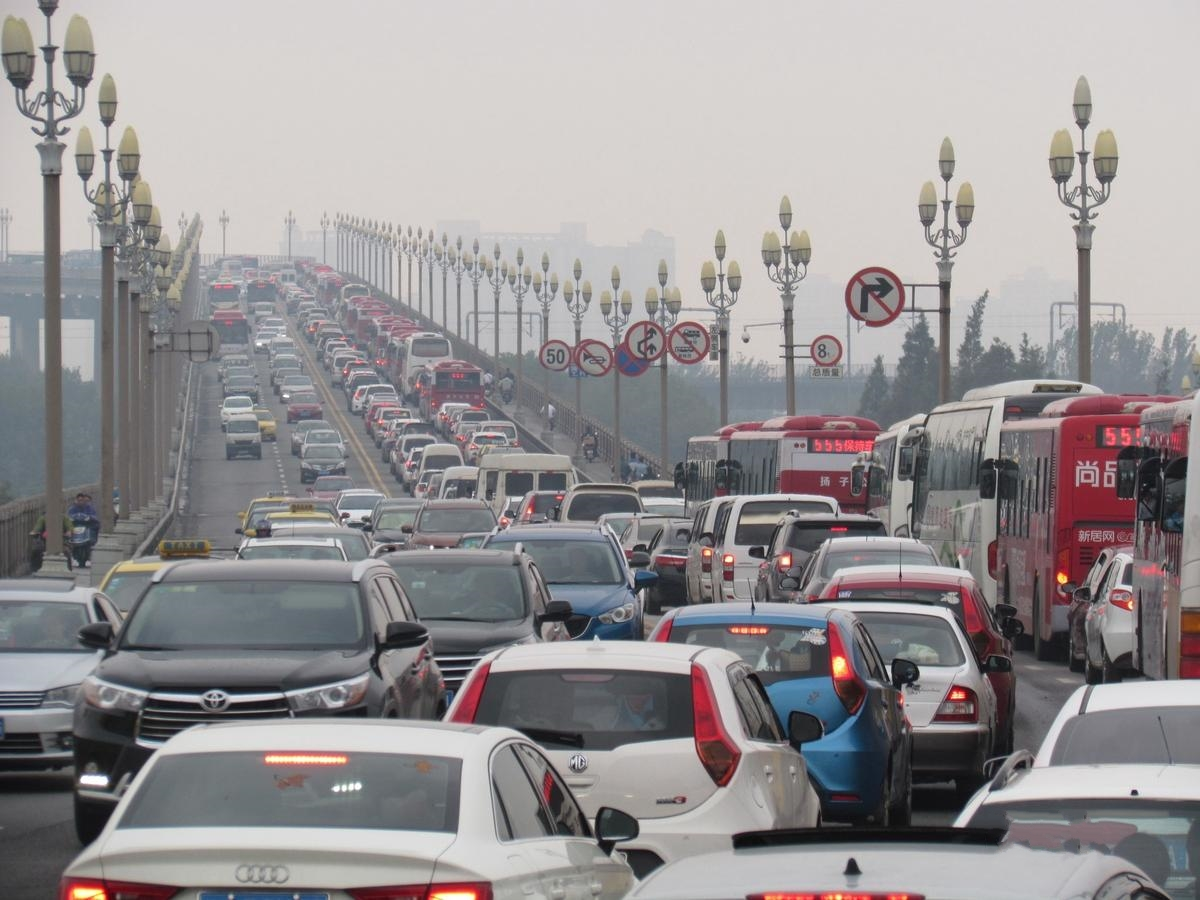bus: (727, 411, 887, 546), (672, 417, 806, 548)
car: (58, 715, 644, 900), (1, 573, 127, 779), (289, 417, 334, 457), (283, 390, 330, 425)
suv: (72, 554, 450, 850), (353, 550, 574, 749)
truck: (476, 420, 518, 461), (225, 413, 261, 460)
